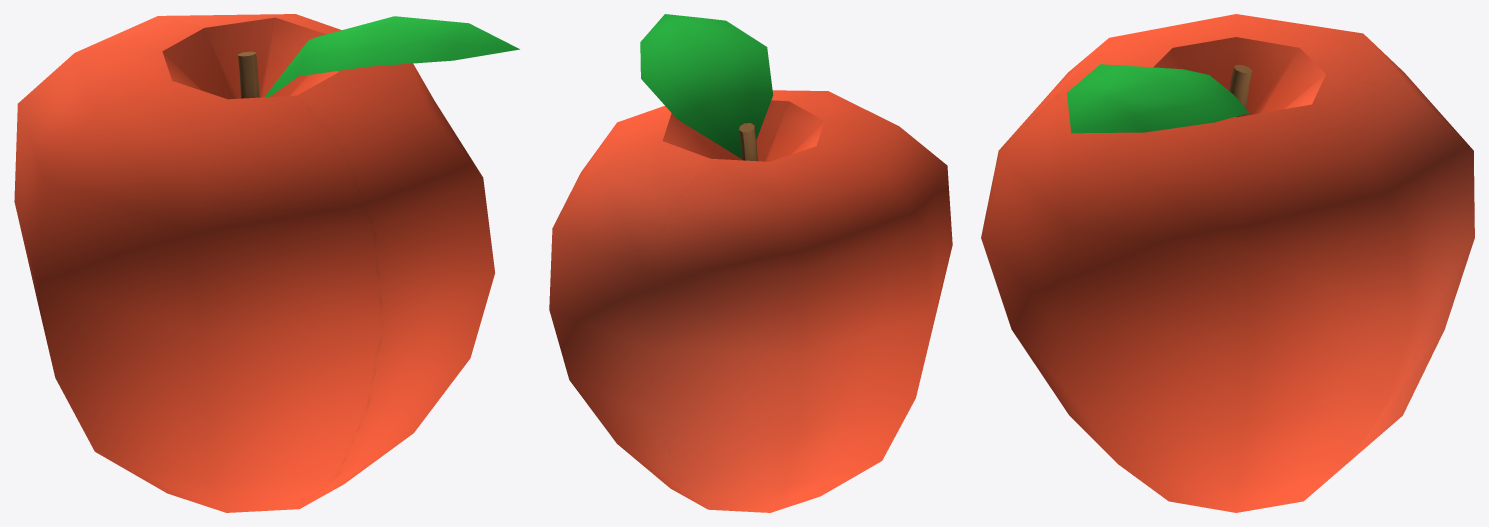
File: Apple.FBX
3 renders of one model, left to right at view 1: azimuth 30°, elevation 25°; view 2: azimuth 150°, elevation 25°; view 3: azimuth 270°, elevation 25°, orthographic. The views are drawn at different scales.
Visible parts, largest first — view 1: apple; view 2: apple; view 3: apple.
Boxes of the visible parts, x1,y1,x2,y2 form: apple: [14, 14, 519, 512]; apple: [549, 14, 952, 512]; apple: [981, 14, 1474, 512].
Bounding box in the file's own units: 118 × 128 × 126.
